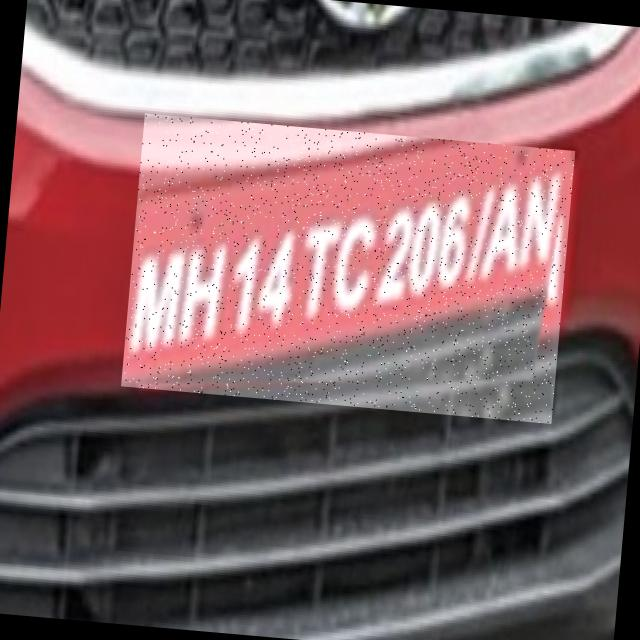Plate: (122, 114, 576, 425)
